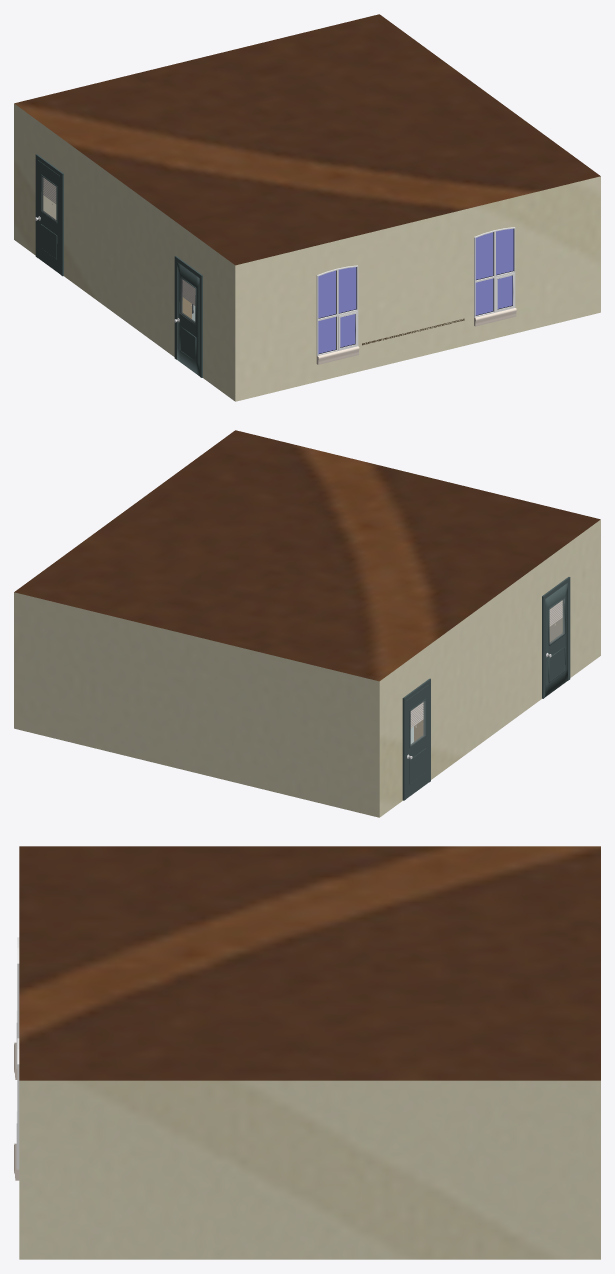
File: Classroom.fbx
3 views of the same model, one above another, from view 1: azimuth 30°, elevation 25°; view 2: azimuth 150°, elevation 25°; view 3: azimuth 270°, elevation 25° (orthographic). The views are drawn at different scales.
Visible parts, largest first — view 1: Room, Window.001, Window.020, Door, Door.001, DoorFrame.001, DoorFrame; view 2: Room, Door, Door.001, DoorFrame, DoorFrame.001; view 3: Room, Window.020.
Part boxes in pixels (box(x1,y1,x2,y2)): Room: box(14, 14, 600, 401); Window.001: box(316, 265, 359, 364); Window.020: box(474, 227, 516, 326); Door: box(38, 160, 60, 273); Door.001: box(177, 262, 199, 375); DoorFrame.001: box(174, 256, 202, 377); DoorFrame: box(35, 154, 63, 276); Room: box(14, 430, 600, 817); Door: box(406, 684, 428, 798); Door.001: box(545, 583, 567, 696); DoorFrame: box(402, 678, 430, 800); DoorFrame.001: box(542, 577, 570, 698); Room: box(19, 846, 600, 1259); Window.020: box(14, 1038, 19, 1180).
Size of the model in its own units: 7.97 by 2.8 by 8.32.
Materials: 41 (18 with a texture image).
